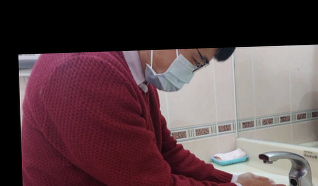with_mask: (141, 49, 213, 94)
